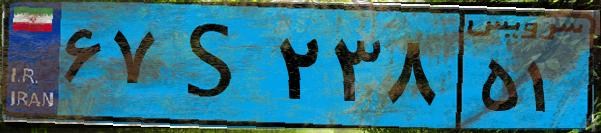1: (525, 38, 570, 115)
2: (270, 28, 330, 110)
3: (330, 28, 385, 110)
5: (475, 38, 525, 113)
6: (57, 26, 110, 100)
7: (110, 28, 158, 98)
8: (385, 28, 445, 110)
S: (158, 12, 270, 120)
